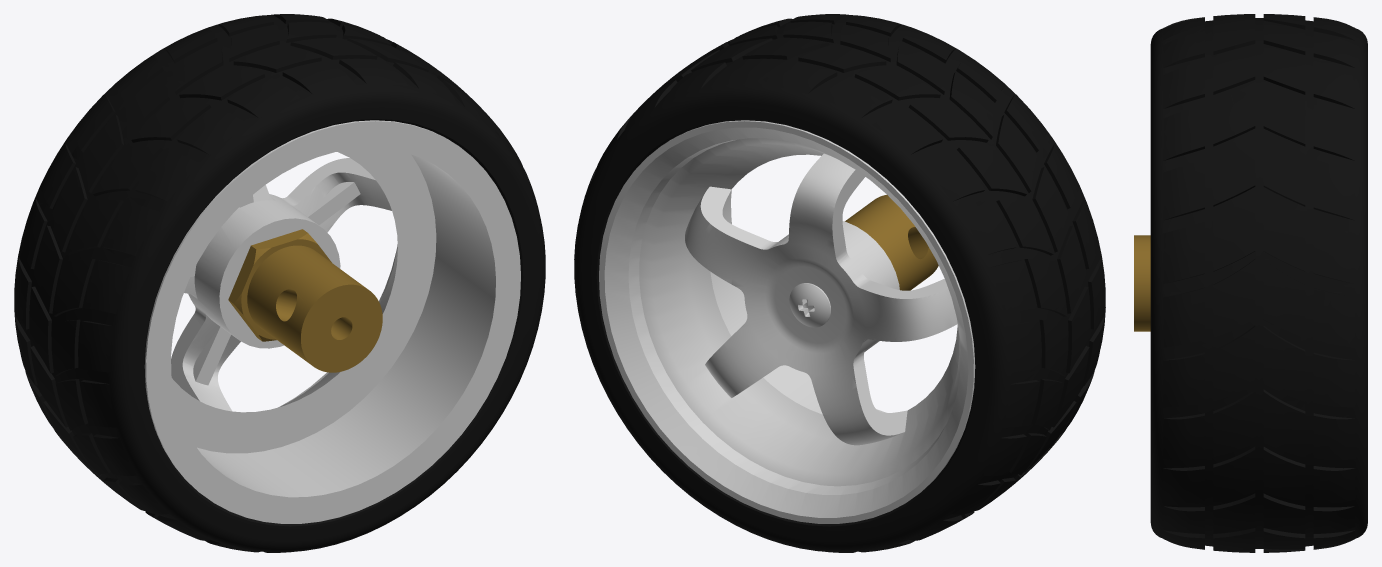
The model's file is right_wheel_visual.dae.
3 renders of one model, left to right at view 1: azimuth 30°, elevation 25°; view 2: azimuth 150°, elevation 25°; view 3: azimuth 270°, elevation 25°, orthographic.
Visible parts, largest first — view 1: right-wheel_20171025-ensamblaje_componentes-R12_003; view 2: right-wheel_20171025-ensamblaje_componentes-R12_003; view 3: right-wheel_20171025-ensamblaje_componentes-R12_003.
Part boxes in pixels (x1,y1,x2,y2): right-wheel_20171025-ensamblaje_componentes-R12_003: [14, 14, 545, 552]; right-wheel_20171025-ensamblaje_componentes-R12_003: [574, 14, 1105, 552]; right-wheel_20171025-ensamblaje_componentes-R12_003: [1134, 14, 1367, 552].
Bounding box in the file's own units: 0.0645 × 0.028 × 0.0645.
